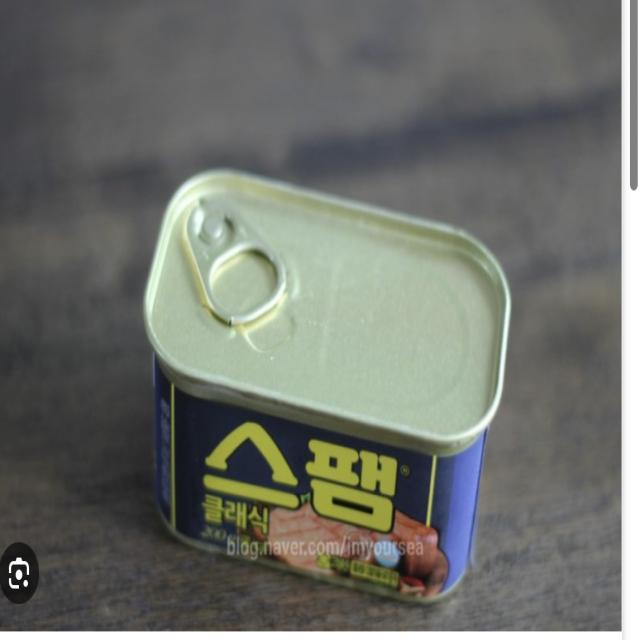recyclable: (135, 132, 523, 617)
